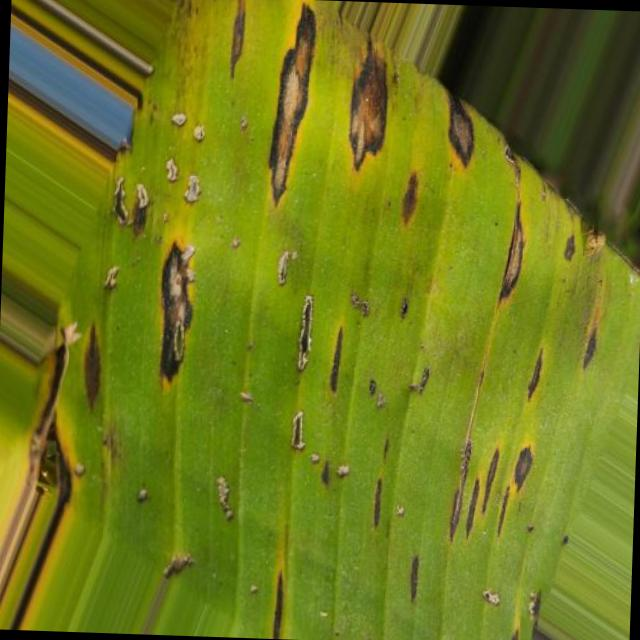Banana_Yellow_Sigatoka: (267, 0, 324, 216), (487, 163, 558, 326), (426, 52, 490, 192), (144, 232, 200, 380), (348, 40, 403, 182)
